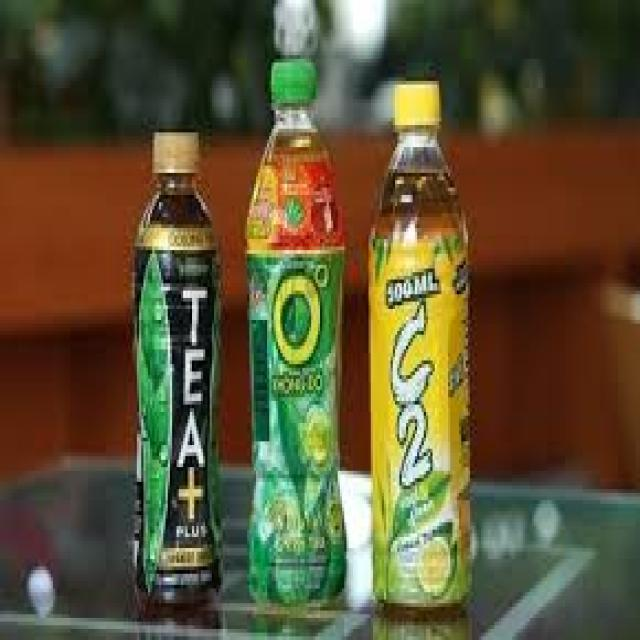tra xanh khong do: (245, 52, 358, 624)
